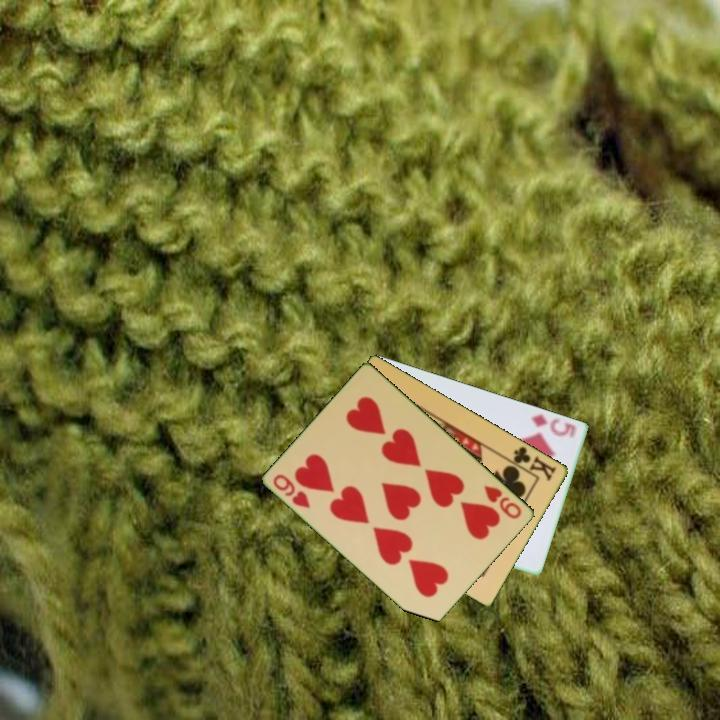5d: (528, 411, 580, 441)
9h: (480, 481, 525, 522), (270, 470, 313, 511)
Kc: (504, 442, 560, 484)
